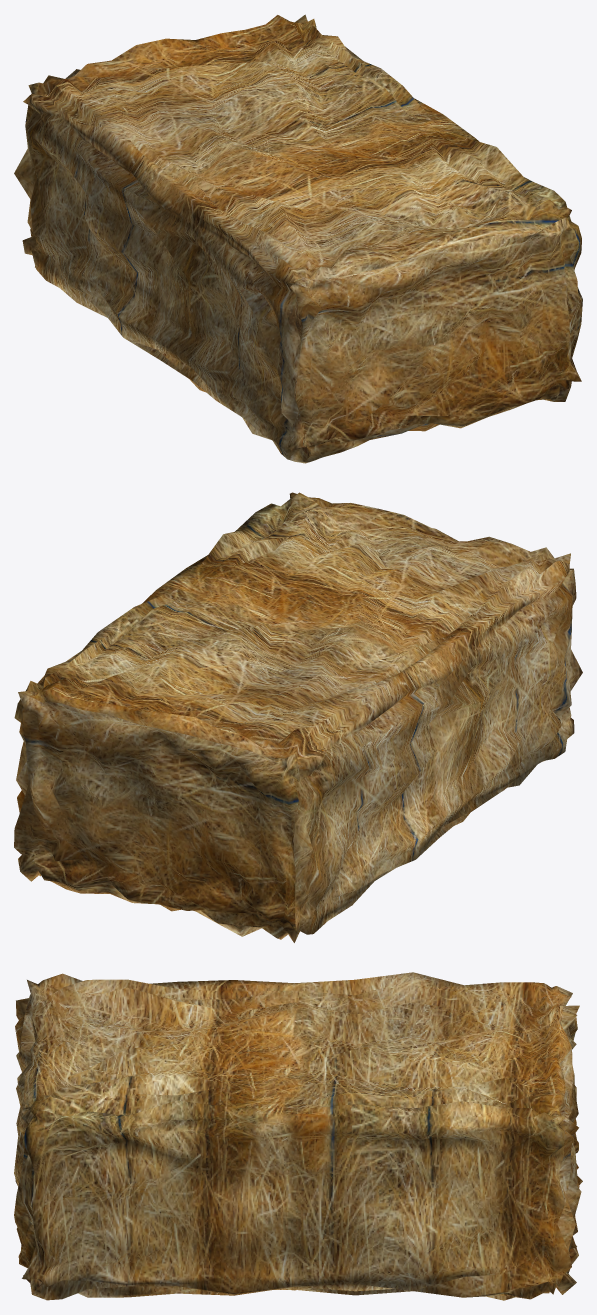
The model's file is SM_Hay_Box.fbx.
3 renders of one model, top to bottom at view 1: azimuth 30°, elevation 25°; view 2: azimuth 150°, elevation 25°; view 3: azimuth 270°, elevation 25°, orthographic. The views are drawn at different scales.
Visible parts, largest first — view 1: SM_Hay_Box; view 2: SM_Hay_Box; view 3: SM_Hay_Box.
Boxes of the visible parts, left/top/right/bottom form: SM_Hay_Box: left=14, top=14, right=582, bottom=463; SM_Hay_Box: left=14, top=492, right=582, bottom=942; SM_Hay_Box: left=14, top=972, right=582, bottom=1300.
Size of the model in its own units: 115 by 188 by 74.88.
Materials: 1 (1 with a texture image).
